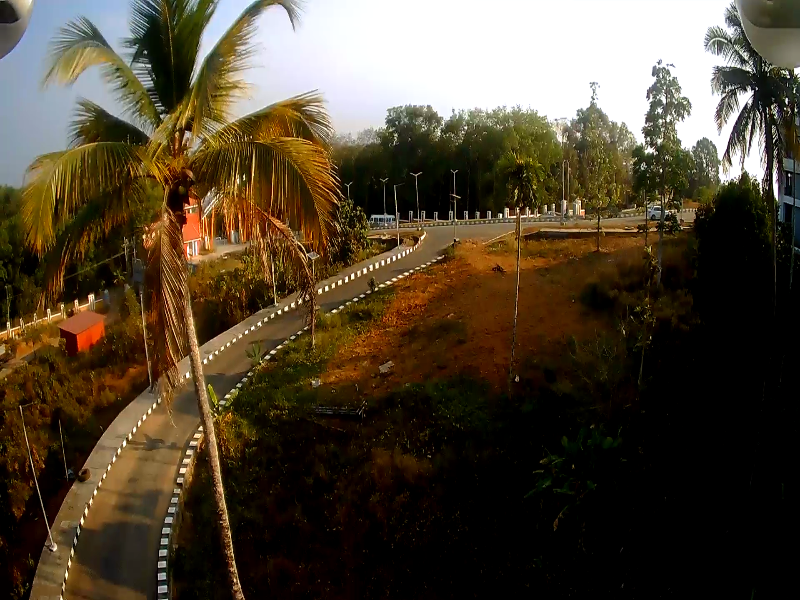coconut: (175, 179, 190, 194)
